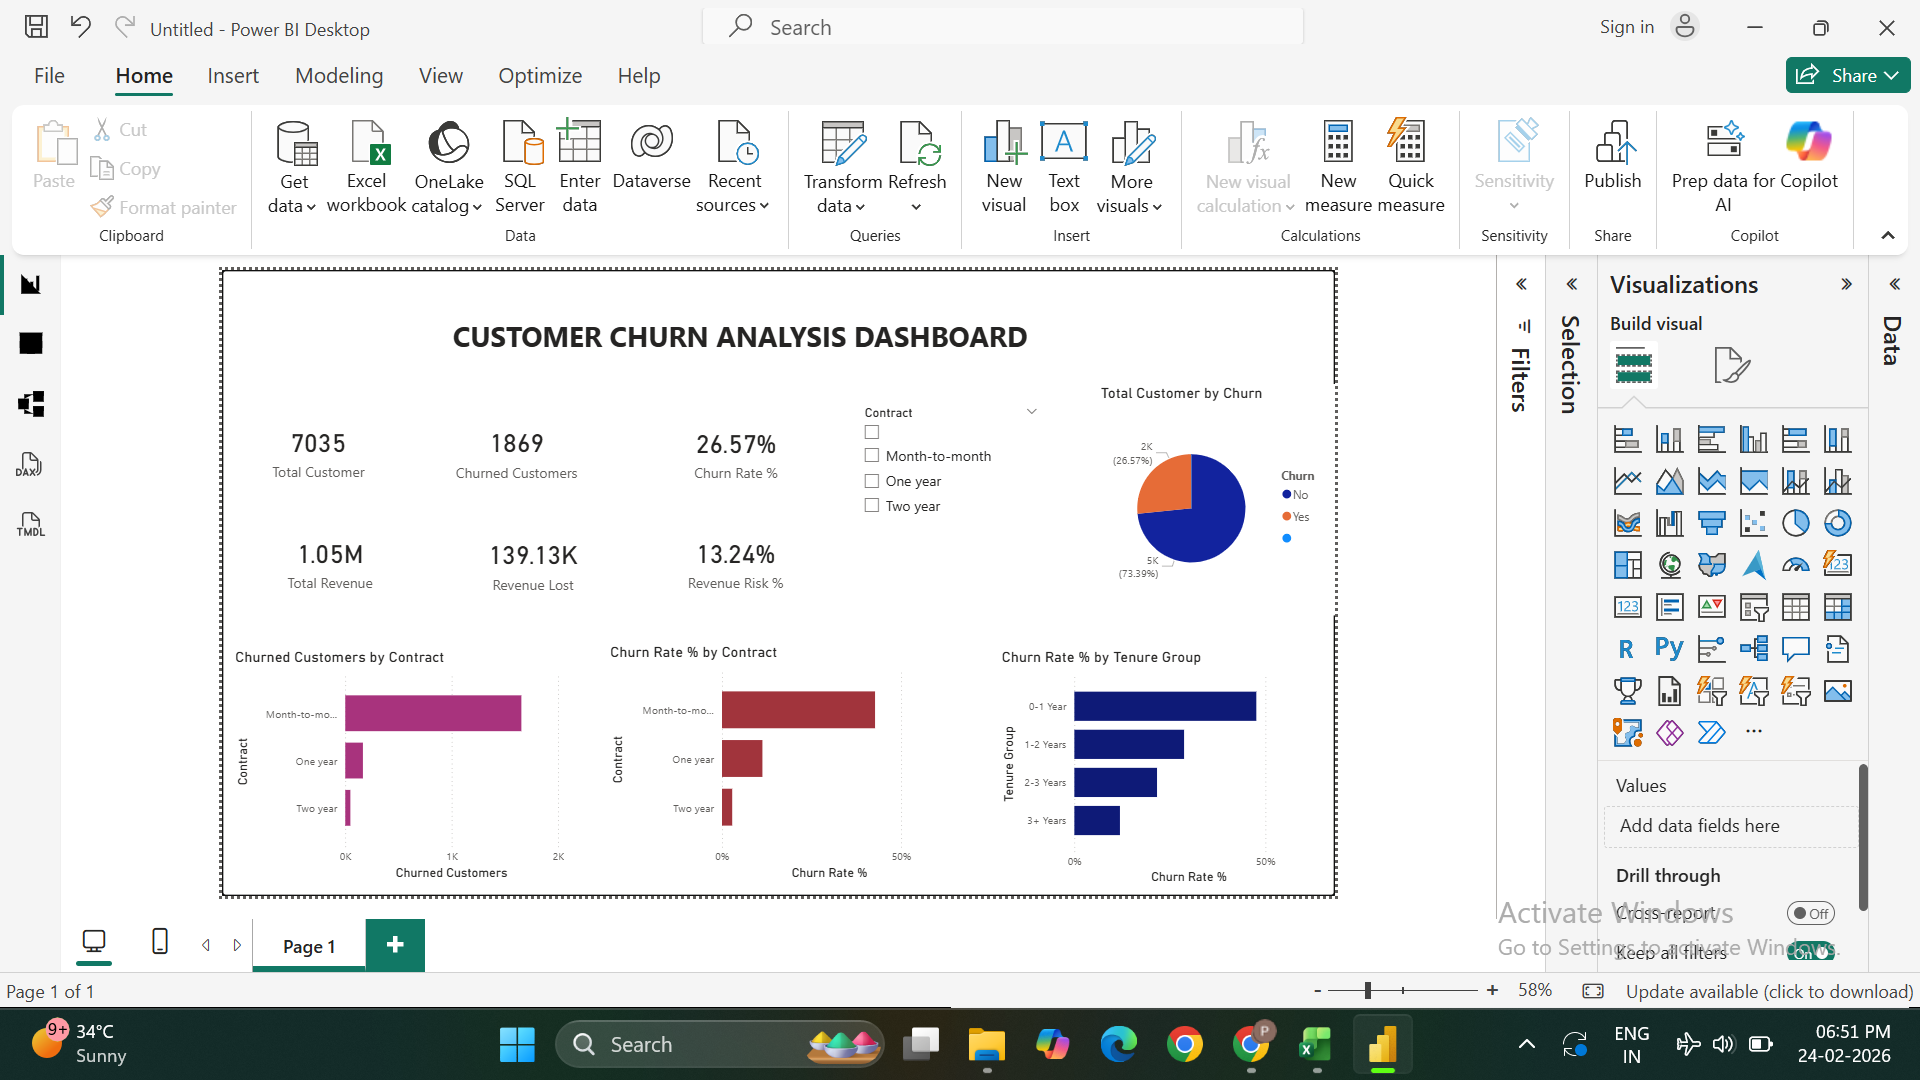

The page's visual inventory and layout, read from the dashboard file:
{"tool":"powerbi","page":{"name":"Page 1","canvas":[1280,720],"ordinal":0},"visuals":[{"type":"card","fields":{"Values":["Telco_Cusomer_Churn.Total Customer"]},"box":[9.6,131,200.3,152.1],"z":0},{"type":"card","fields":{"Values":["Telco_Cusomer_Churn.Churned Customers"]},"box":[227.2,131,221.5,154.1],"z":1000},{"type":"card","fields":{"Values":["Telco_Cusomer_Churn.Churn Rate %"]},"box":[477.1,131.4,225.7,154.3],"z":2000},{"type":"card","fields":{"Values":["Telco_Cusomer_Churn.Total Revenue"]},"box":[10,258.6,227.1,152.9],"z":3000},{"type":"card","fields":{"Values":["Telco_Cusomer_Churn.Revenue Lost"]},"box":[238.6,260,238.6,152.9],"z":4000},{"type":"card","fields":{"Values":["Telco_Cusomer_Churn.Revenue Risk %"]},"box":[487.1,258.6,204.3,152.9],"z":5000},{"type":"clusteredBarChart","fields":{"Category":["Telco_Cusomer_Churn.Contract"],"Y":["Telco_Cusomer_Churn.Churned Customers"]},"box":[9.9,434,387.6,270],"z":6000},{"type":"clusteredBarChart","fields":{"Category":["Telco_Cusomer_Churn.Contract"],"Y":["Telco_Cusomer_Churn.Churn Rate %"]},"box":[441.4,428.6,397.1,275.7],"z":7000},{"type":"barChart","fields":{"Y":["Telco_Cusomer_Churn.Churn Rate %"],"Category":["Telco_Cusomer_Churn.Tenure Group"]},"box":[891.4,434.3,368.6,275.7],"z":8000},{"type":"pieChart","fields":{"Category":["Telco_Cusomer_Churn.Churn"],"Y":["Telco_Cusomer_Churn.Total Customer"]},"box":[1005.3,131,275.4,265.8],"z":9000},{"type":"textbox","box":[9.6,48.1,1161.5,57.7],"z":10000},{"type":"slicer","fields":{"Values":["Telco_Cusomer_Churn.Contract"]},"box":[725.7,150,224.3,228.6],"z":11000}]}

Visuals, with their boxes on the page's 1280x720 design canvas (x1, y1, x2, y2). These are canvas units, not pixel positions in the 1920x1080 screenshot, which may show the page scaled, cropped or inside an application window:
card - Telco_Cusomer_Churn.Total Customer: (x1=10, y1=131, x2=210, y2=283)
card - Telco_Cusomer_Churn.Churned Customers: (x1=227, y1=131, x2=449, y2=285)
card - Telco_Cusomer_Churn.Churn Rate %: (x1=477, y1=131, x2=703, y2=286)
card - Telco_Cusomer_Churn.Total Revenue: (x1=10, y1=259, x2=237, y2=412)
card - Telco_Cusomer_Churn.Revenue Lost: (x1=239, y1=260, x2=477, y2=413)
card - Telco_Cusomer_Churn.Revenue Risk %: (x1=487, y1=259, x2=691, y2=412)
clusteredBarChart - Telco_Cusomer_Churn.Contract x Telco_Cusomer_Churn.Churned Customers: (x1=10, y1=434, x2=398, y2=704)
clusteredBarChart - Telco_Cusomer_Churn.Contract x Telco_Cusomer_Churn.Churn Rate %: (x1=441, y1=429, x2=838, y2=704)
barChart - Telco_Cusomer_Churn.Churn Rate % x Telco_Cusomer_Churn.Tenure Group: (x1=891, y1=434, x2=1260, y2=710)
pieChart - Telco_Cusomer_Churn.Churn x Telco_Cusomer_Churn.Total Customer: (x1=1005, y1=131, x2=1281, y2=397)
textbox: (x1=10, y1=48, x2=1171, y2=106)
slicer - Telco_Cusomer_Churn.Contract: (x1=726, y1=150, x2=950, y2=379)
